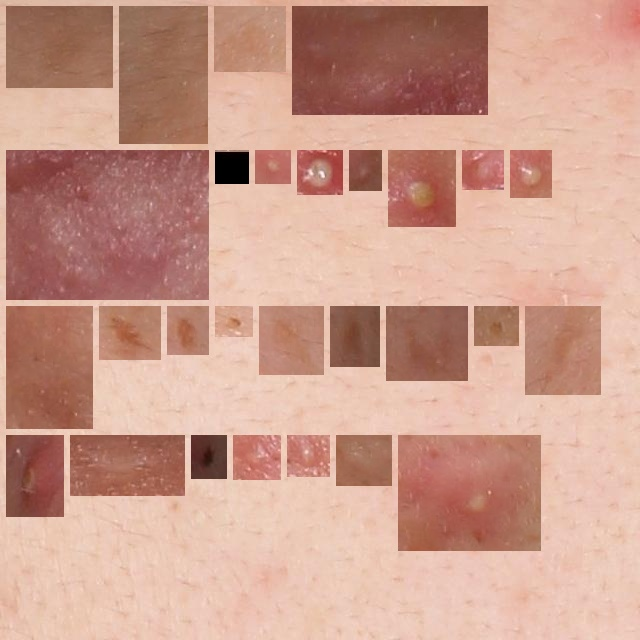hypertrophic_scar: (14, 158, 201, 292), (300, 14, 480, 107), (14, 314, 85, 421), (78, 443, 177, 488), (344, 443, 384, 478)
melasma: (127, 14, 200, 136), (14, 14, 105, 80), (533, 314, 593, 387), (394, 314, 460, 373), (222, 14, 278, 64), (267, 314, 316, 367), (107, 314, 153, 352), (338, 314, 372, 359), (175, 314, 201, 347), (482, 314, 511, 338)
nevus: (199, 443, 219, 471)
pustule: (406, 443, 533, 543), (396, 158, 448, 219), (14, 443, 56, 509), (241, 443, 273, 472), (305, 158, 335, 187), (518, 158, 544, 190), (295, 443, 322, 469), (470, 158, 496, 182), (357, 158, 374, 183), (263, 158, 283, 176), (223, 158, 241, 176)
